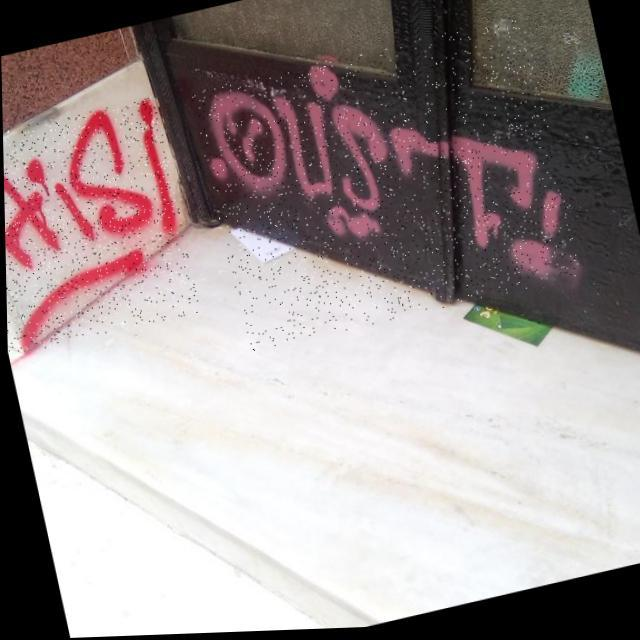-: (189, 18, 581, 356), (2, 95, 200, 357)
